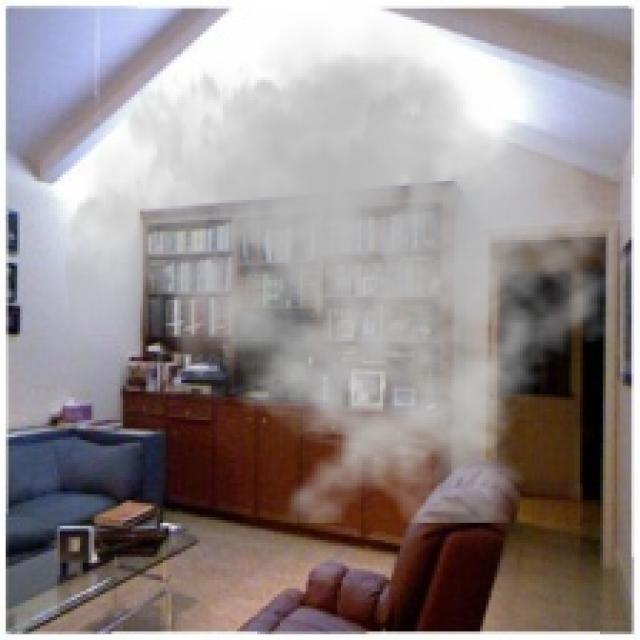smoke: (63, 3, 631, 523)
